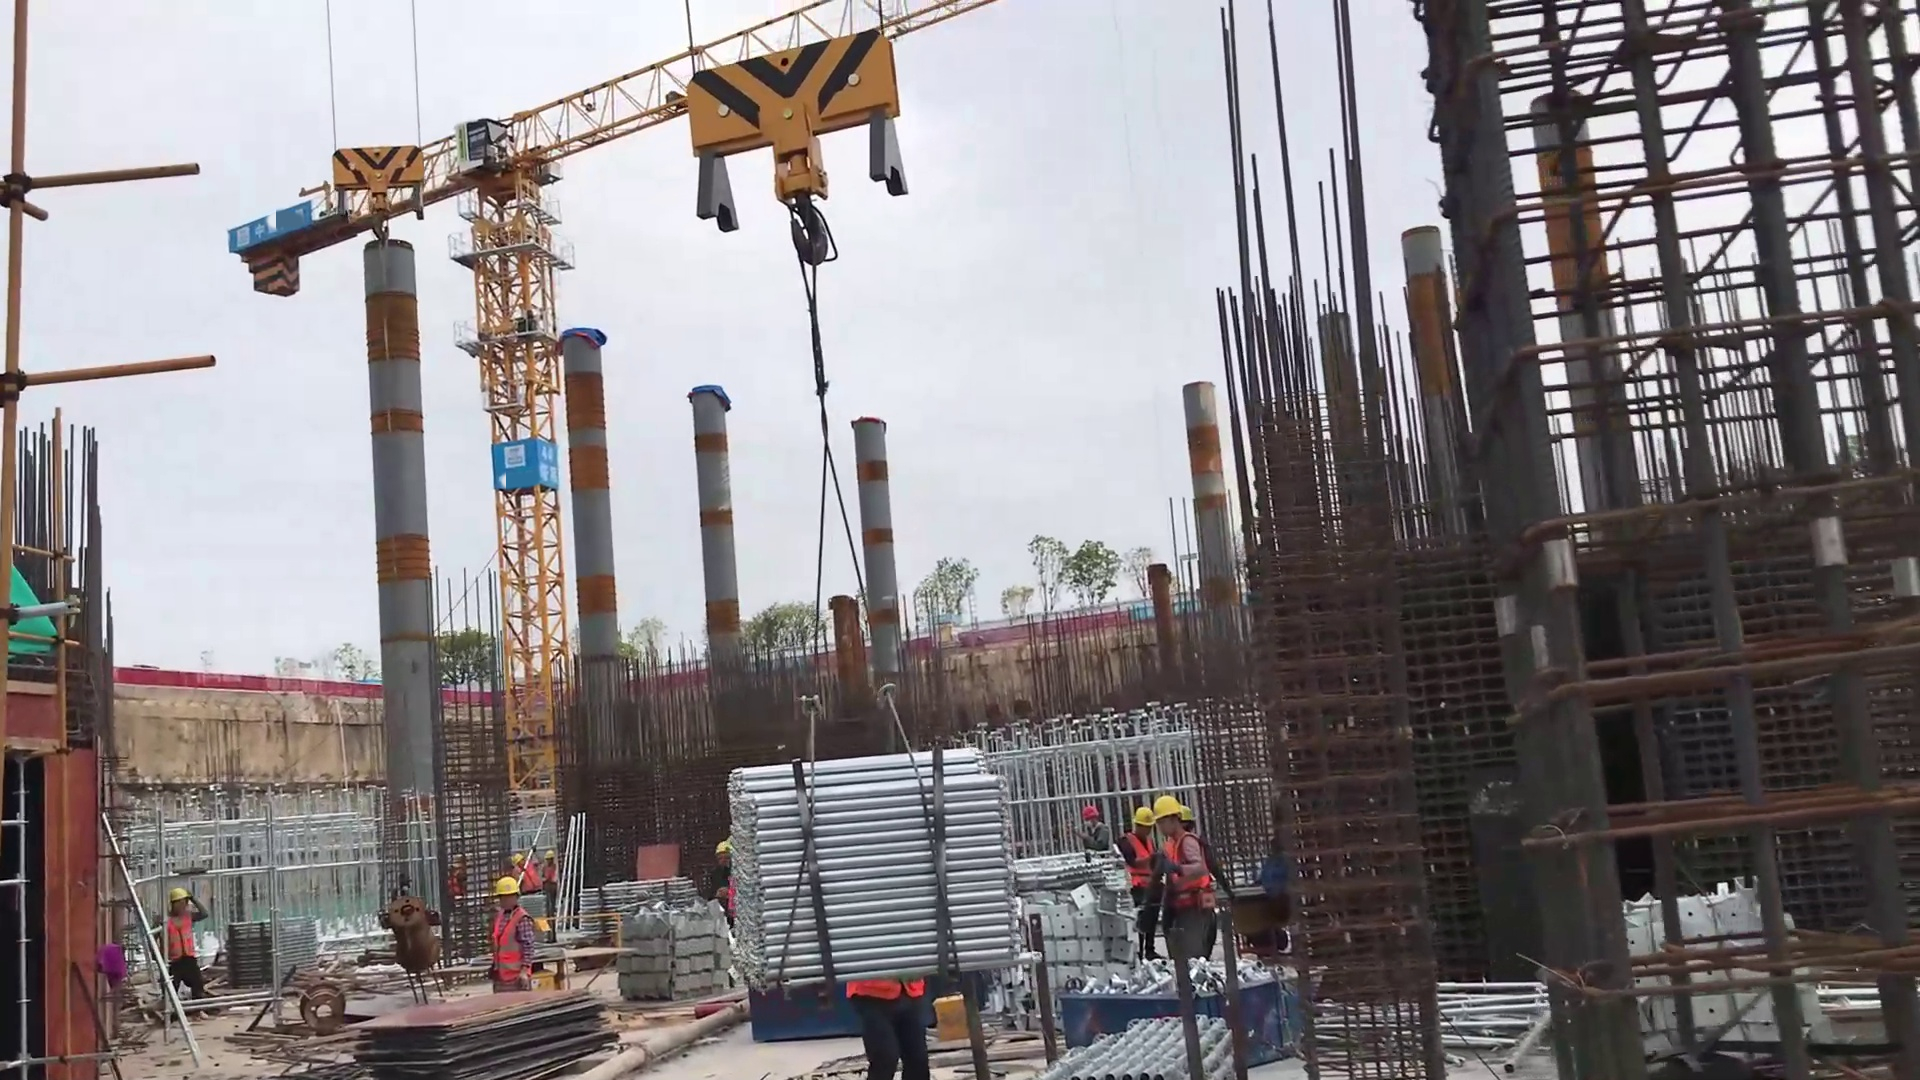helmet: (1127, 789, 1204, 834), (490, 862, 533, 912)
hook: (671, 18, 940, 273), (321, 120, 467, 220)
hopper: (1040, 942, 1321, 1061)
person: (1106, 777, 1225, 951), (470, 865, 544, 1000)
scaffold: (719, 737, 1019, 989)
